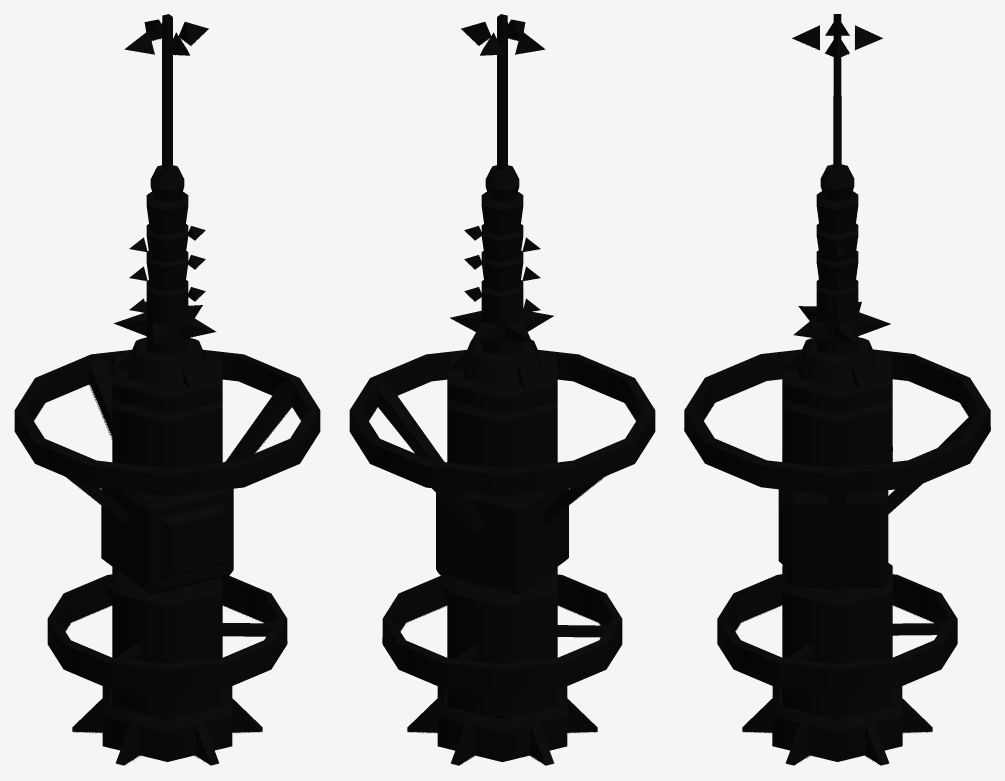
The model's file is pm-sci-fi-machine.glb.
3 views of the same model, side by side, from view 1: azimuth 30°, elevation 25°; view 2: azimuth 150°, elevation 25°; view 3: azimuth 270°, elevation 25° (orthographic).
Visible parts, largest first — view 1: SciFi_Machine; view 2: SciFi_Machine; view 3: SciFi_Machine.
Boxes of the visible parts, x1,y1,x2,y2 form: SciFi_Machine: (14,14,320,765); SciFi_Machine: (349,14,655,765); SciFi_Machine: (684,14,990,765).
Size of the model in its own units: 2.18 by 5.6 by 2.18.
3 materials, 2 textured.
